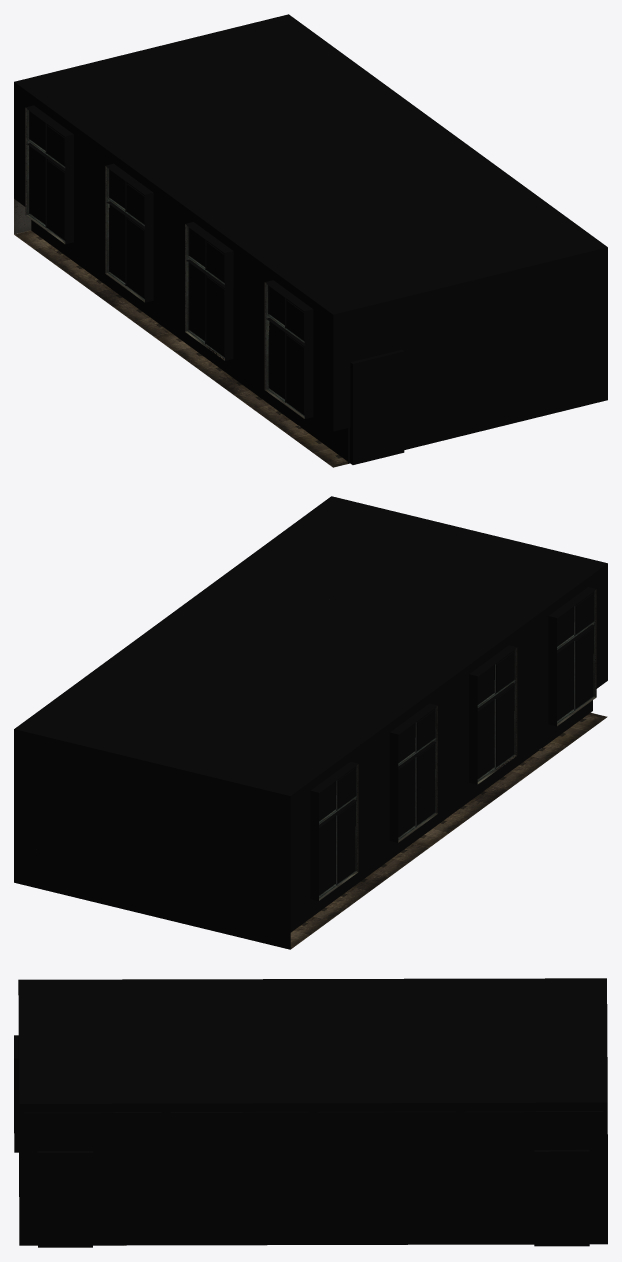
The model's file is abandoned_classroom.glb.
3 renders of one model, top to bottom at view 1: azimuth 30°, elevation 25°; view 2: azimuth 150°, elevation 25°; view 3: azimuth 270°, elevation 25°, orthographic. The views are drawn at different scales.
Visible parts, largest first — view 1: Material2 (×2), Material3 (×2); view 2: Material2 (×2), Material3 (×2); view 3: Material2.
Boxes of the visible parts, left/top/right/bottom form: Material2 (×2): left=14, top=14, right=607, bottom=467; Material3 (×2): left=25, top=107, right=304, bottom=416; Material2 (×2): left=14, top=496, right=607, bottom=949; Material3 (×2): left=319, top=589, right=596, bottom=898; Material2: left=14, top=978, right=607, bottom=1247.
Size of the model in its own units: 225 by 114 by 432.
10 materials, 10 textured.
